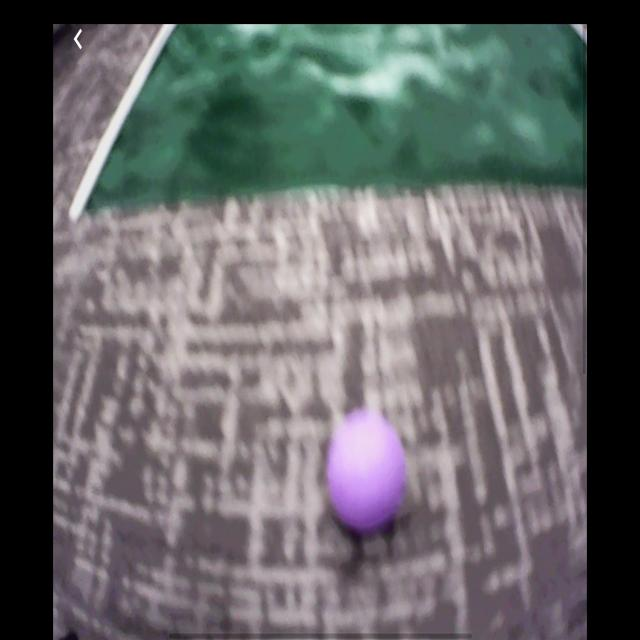ball: (329, 408, 405, 527)
